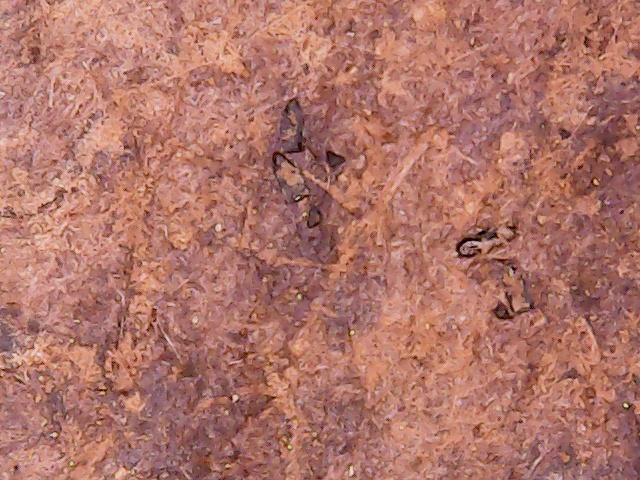full: (265, 149, 318, 225), (450, 215, 523, 266), (270, 94, 313, 159)
